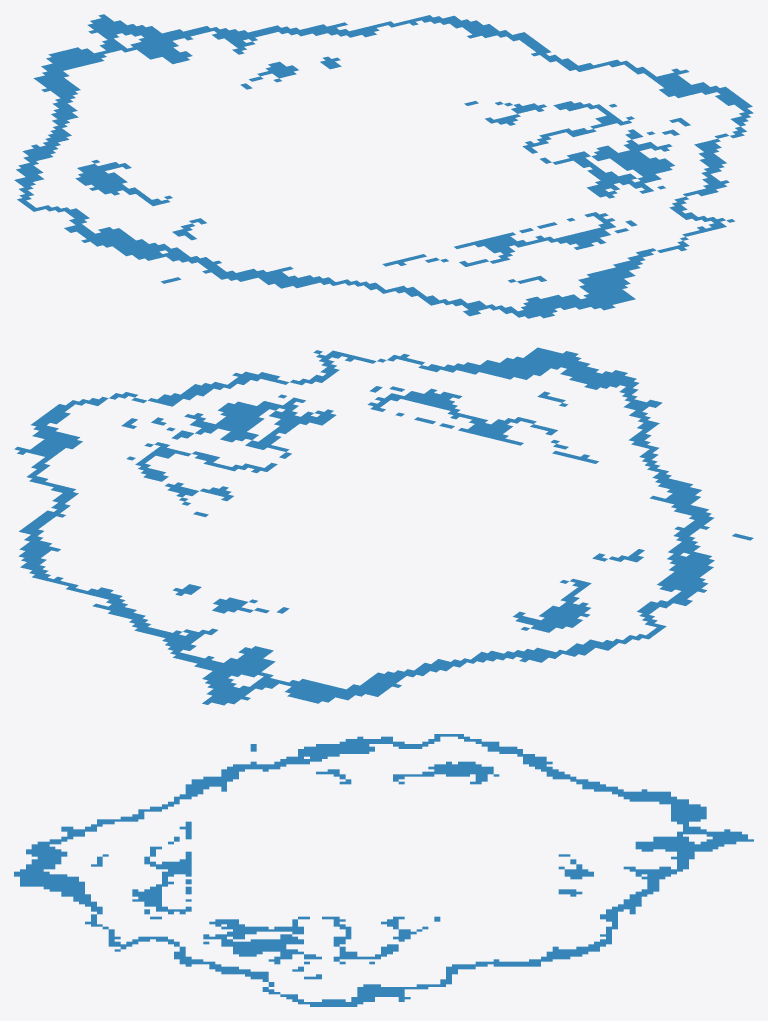
File: Isl-orc5-PlaceForWaterObjects.fbx
3 renders of one model, top to bottom at view 1: azimuth 30°, elevation 25°; view 2: azimuth 150°, elevation 25°; view 3: azimuth 270°, elevation 25°, orthographic. The views are drawn at different scales.
Parts seen in each view (by area): view 1: Isl-orc5-PlaceForWaterObjects; view 2: Isl-orc5-PlaceForWaterObjects; view 3: Isl-orc5-PlaceForWaterObjects.
Boxes of the visible parts, x1,y1,x2,y2 form: Isl-orc5-PlaceForWaterObjects: (14,14,753,318); Isl-orc5-PlaceForWaterObjects: (14,347,753,705); Isl-orc5-PlaceForWaterObjects: (14,734,753,1006).
Size of the model in its own units: 109 by 0 by 125.
